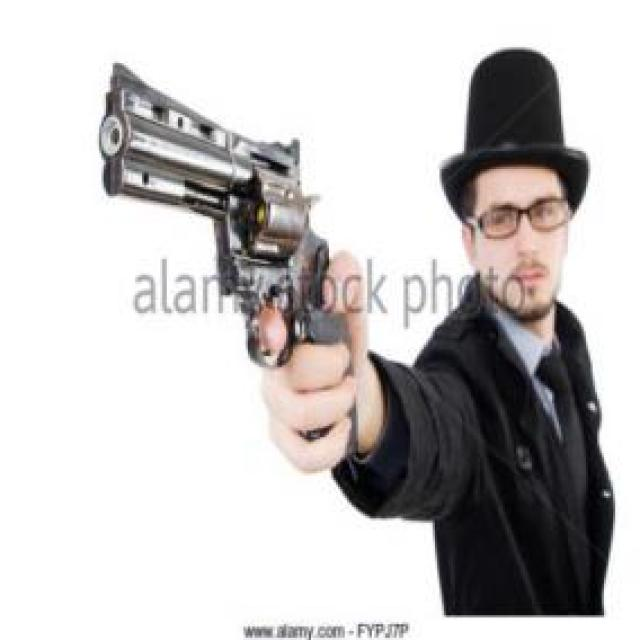pistol: (99, 59, 360, 463)
